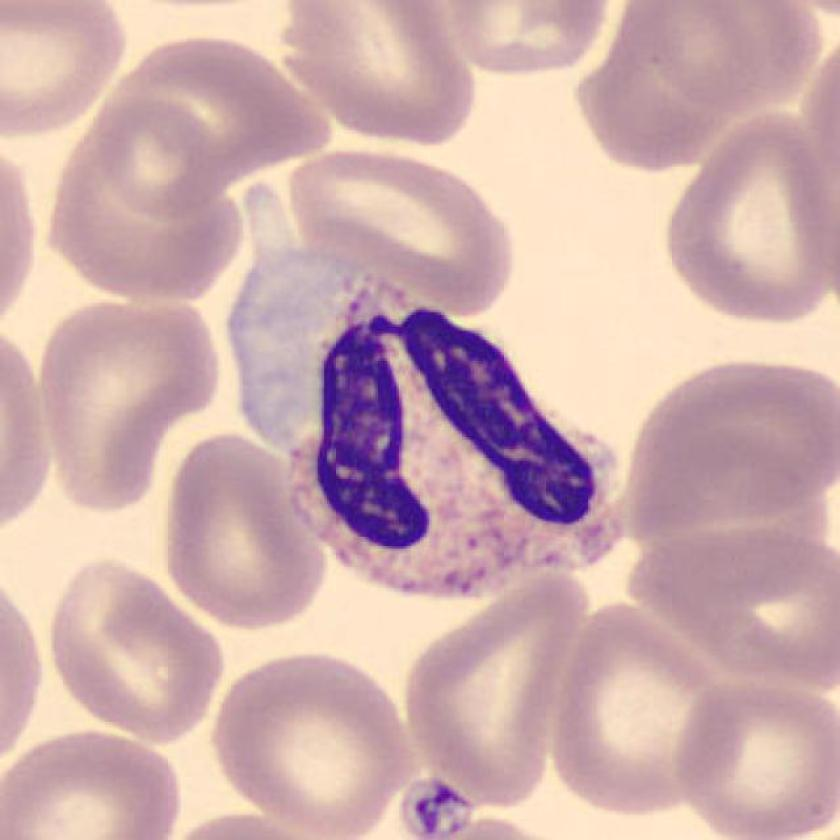neutrophil: (239, 189, 625, 594)
